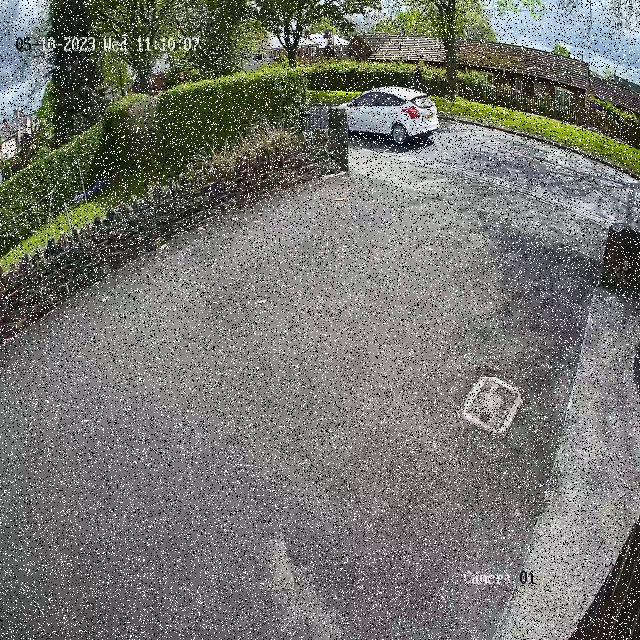vehicle: (330, 79, 440, 154)
